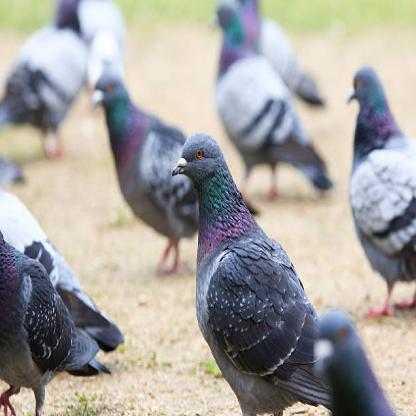Flying Rat: (180, 144, 314, 416), (210, 3, 327, 188), (89, 74, 184, 291), (346, 65, 416, 311), (1, 236, 93, 411), (1, 1, 81, 170), (316, 310, 398, 416)
